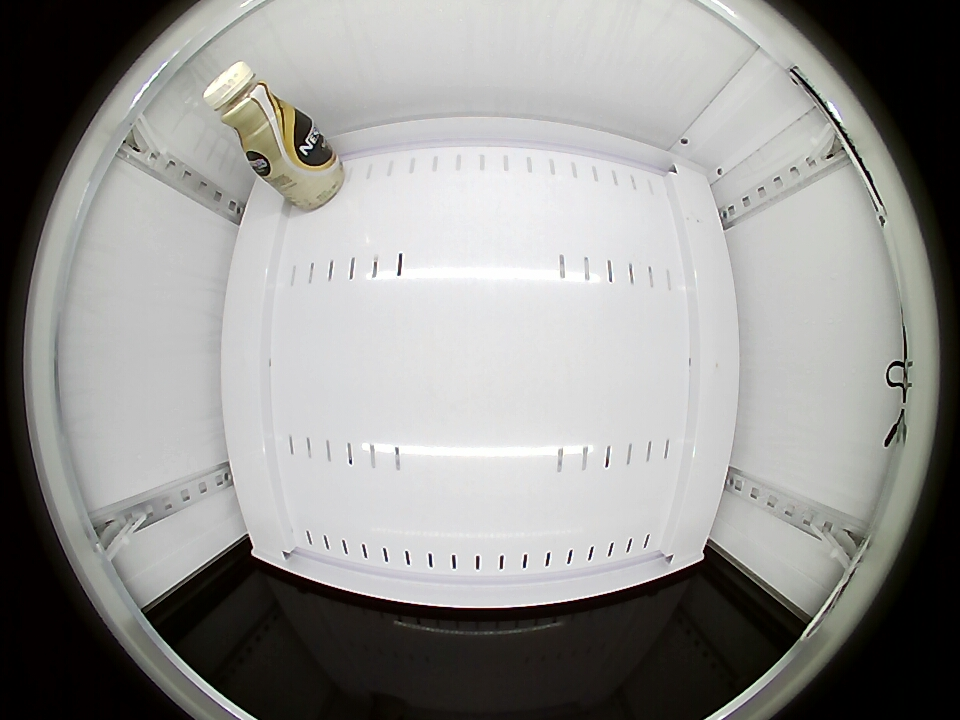kafei: (203, 61, 302, 165)
